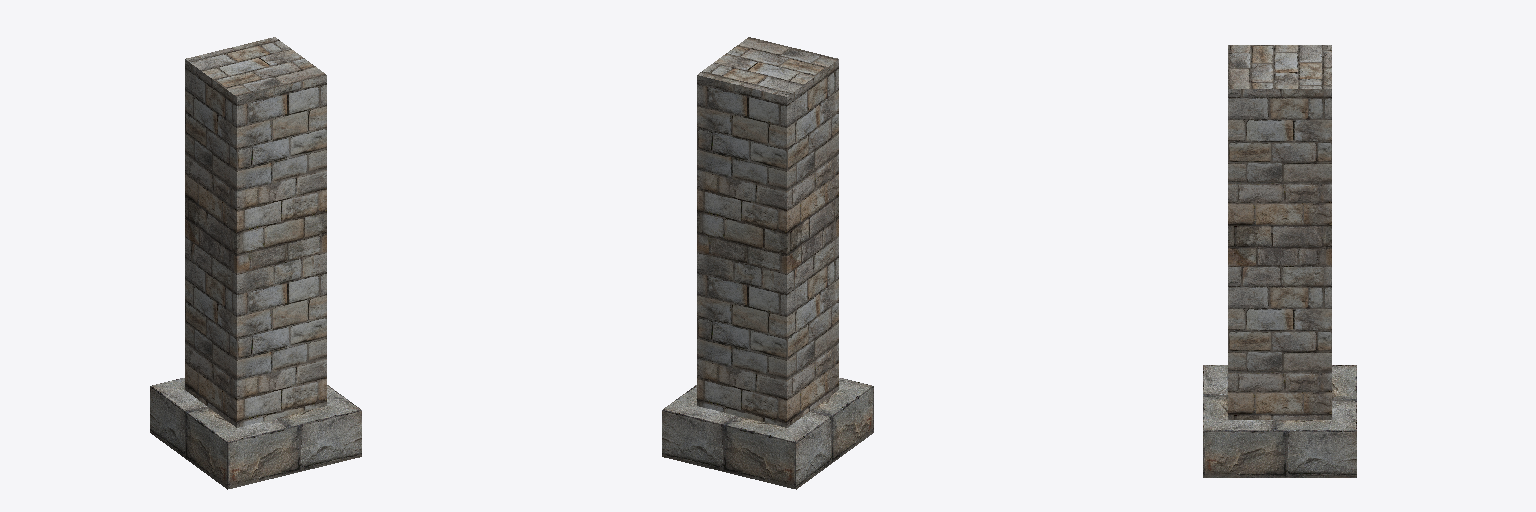
The picture shows the model from 3 angles: view 1: azimuth 30°, elevation 25°; view 2: azimuth 150°, elevation 25°; view 3: azimuth 270°, elevation 25°; orthographic projection.
Visible parts, largest first — view 1: Column_3; view 2: Column_3; view 3: Column_3.
Part boxes in pixels (left/top/right/bottom): Column_3: left=150, top=37, right=361, bottom=489; Column_3: left=662, top=37, right=873, bottom=489; Column_3: left=1203, top=45, right=1356, bottom=477.
Size of the model in its own units: 16.27 by 43.86 by 16.27.
2 materials, 2 textured.